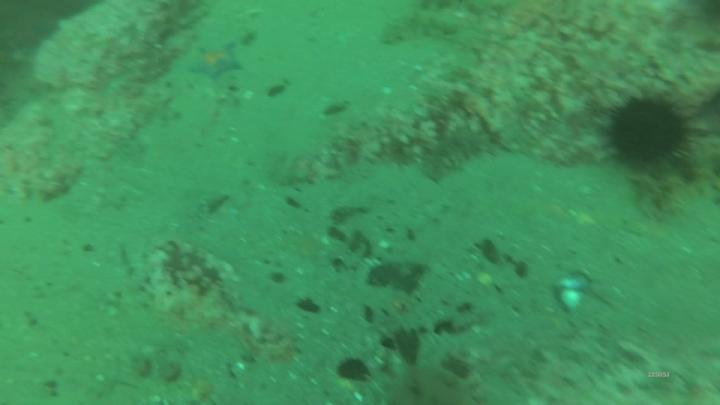echinus: (605, 91, 699, 174)
holothurian: (631, 132, 720, 225), (419, 126, 500, 185), (379, 9, 464, 50)
starfish: (188, 42, 246, 84)
